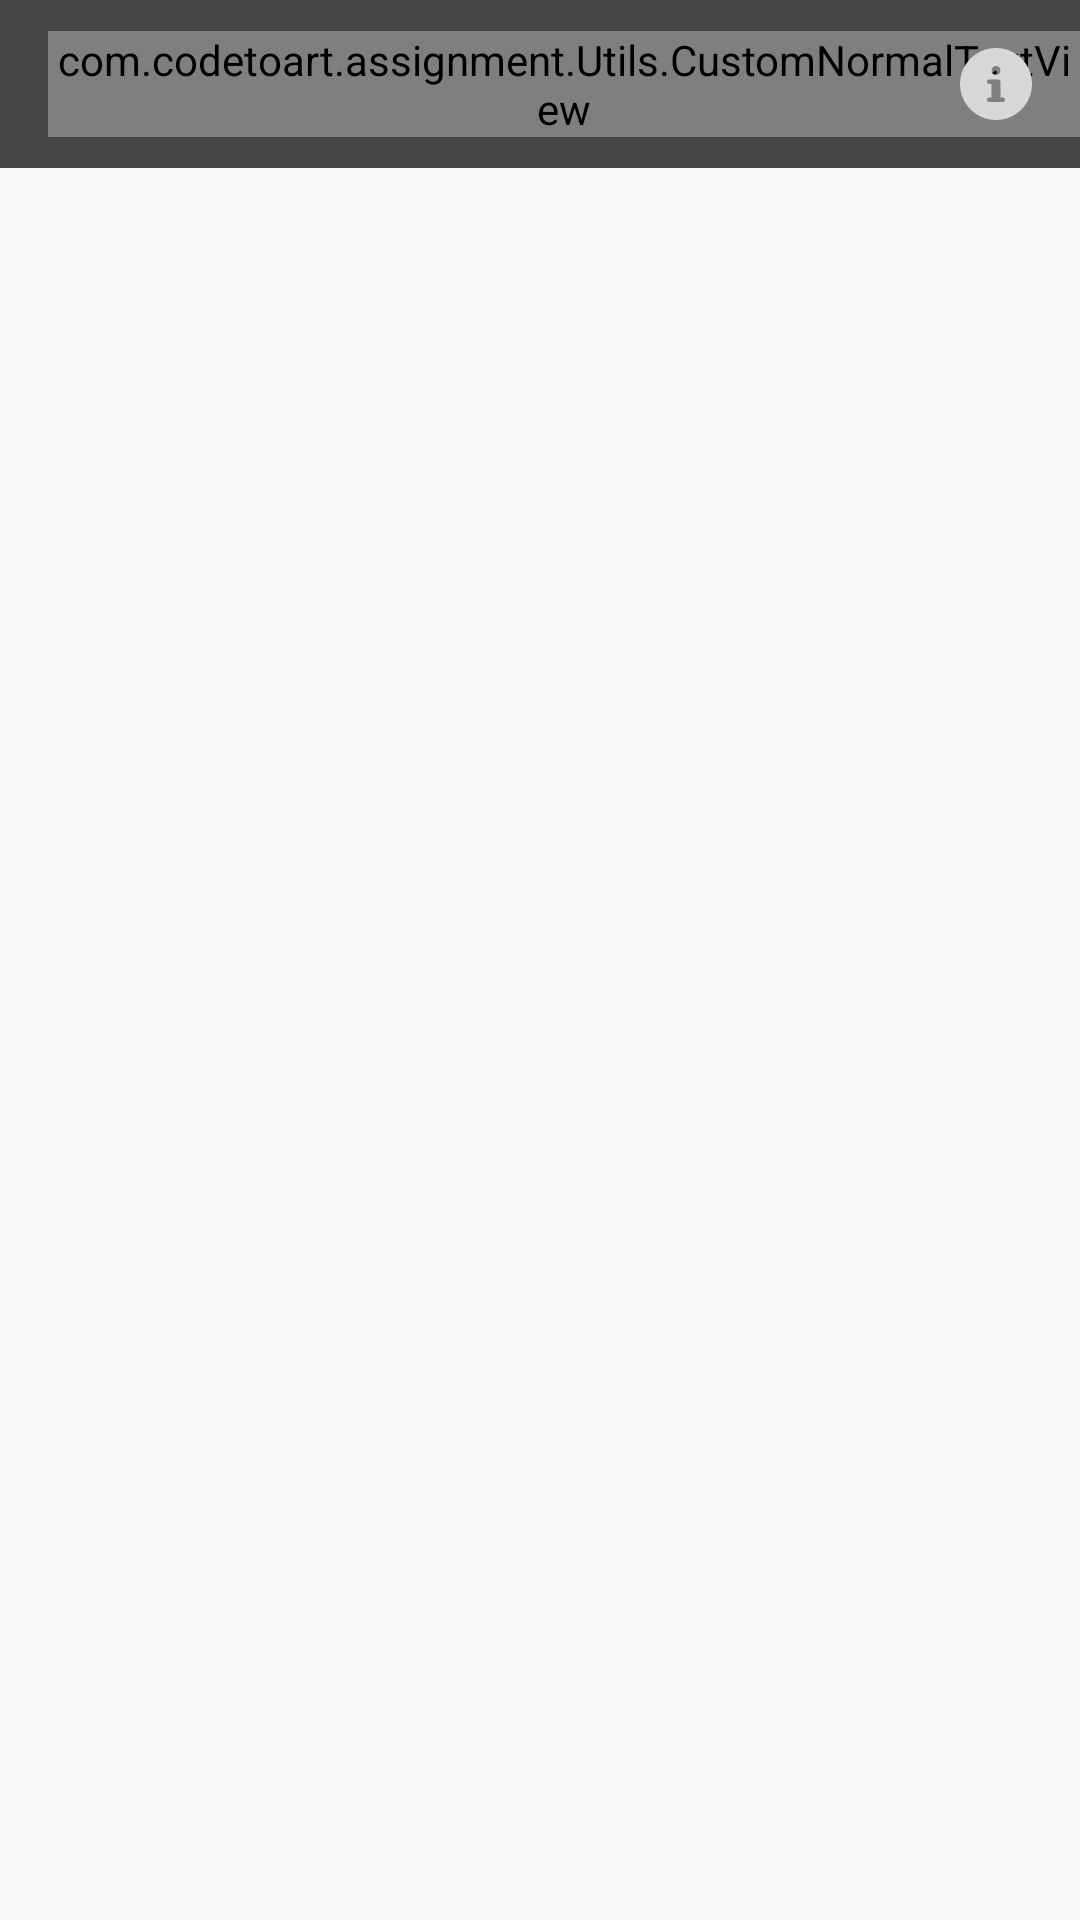

Named icons in this screenshot (1080w x 1920h) and their centers, point (x, y):
information: point (996, 84)
